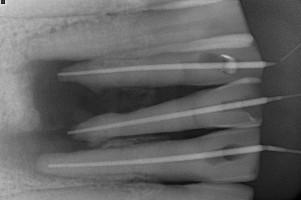Dental Caries: (13, 60, 156, 181)
